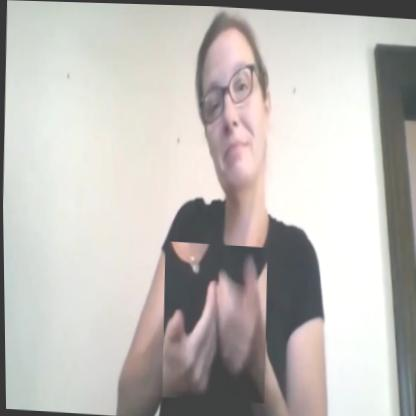HowAreYou: (160, 240, 269, 402)
